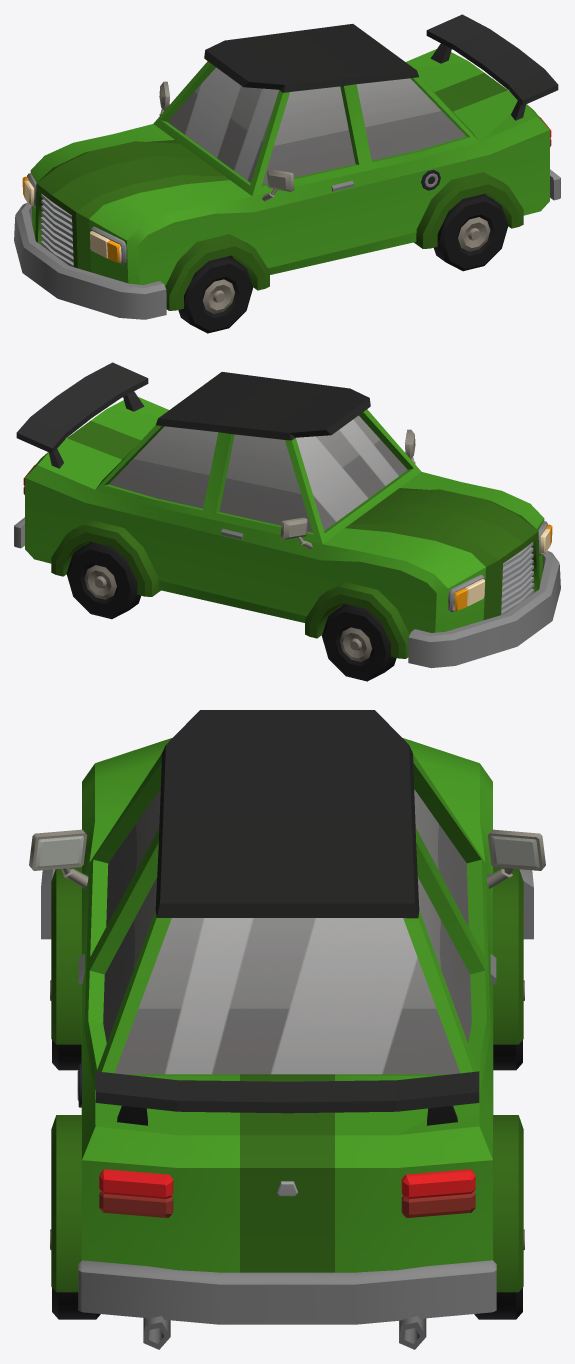
The model's file is Car_1_T.gltf.
3 renders of one model, top to bottom at view 1: azimuth 30°, elevation 25°; view 2: azimuth 150°, elevation 25°; view 3: azimuth 270°, elevation 25°, orthographic. The views are drawn at different scales.
Parts seen in each view (by area): view 1: Car_1_T, RL, FL; view 2: Car_1_T, RR, FR; view 3: Car_1_T, RL, RR, FR, FL.
Part boxes in pixels (x1,y1,x2,y2): Car_1_T: (14,14,560,319); RL: (434,194,508,271); FL: (178,256,252,333); Car_1_T: (14,362,560,668); RR: (66,542,140,619); FR: (322,604,396,681); Car_1_T: (29,710,545,1349); RL: (50,1229,100,1319); RR: (474,1229,524,1319); FR: (493,980,524,1070); FL: (50,980,81,1070).
Bounding box in the file's own units: 3.64 × 1.5 × 1.7.
Materials: 4 (4 with a texture image).
